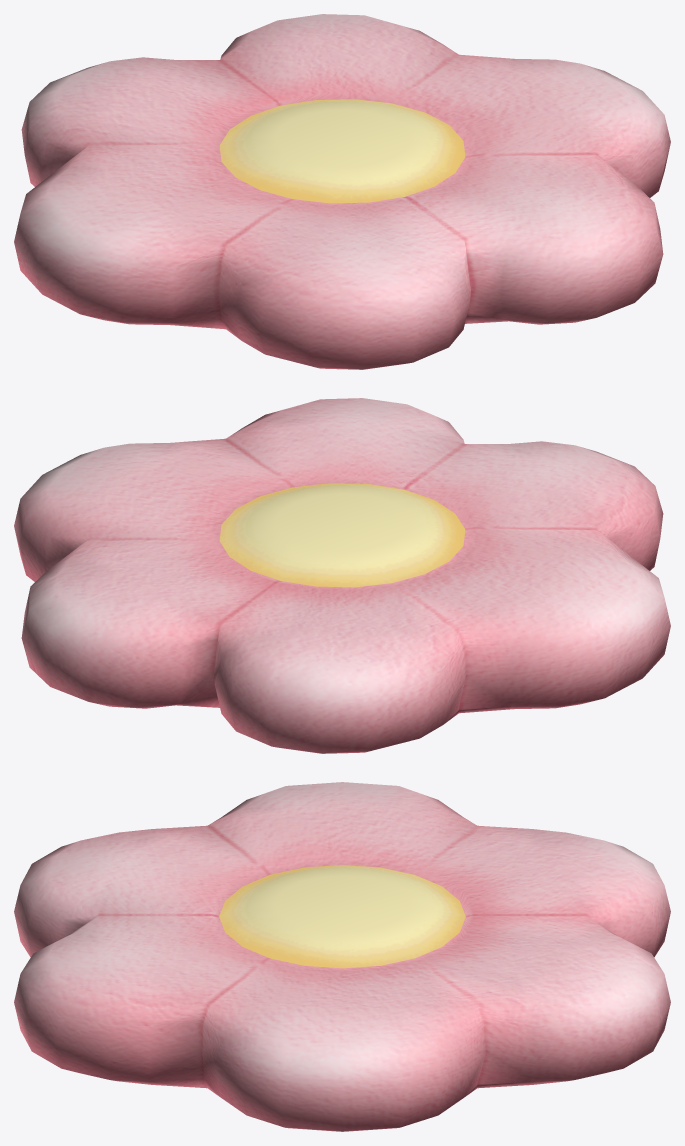
Rendered from Doll_OB_Cushion_003.FBX.
The picture shows the model from 3 angles, top to bottom: view 1: azimuth 30°, elevation 25°; view 2: azimuth 150°, elevation 25°; view 3: azimuth 270°, elevation 25°; orthographic projection.
Parts seen in each view (by area): view 1: Doll_OB_Cushion_003; view 2: Doll_OB_Cushion_003; view 3: Doll_OB_Cushion_003.
Boxes of the visible parts, x1,y1,x2,y2 form: Doll_OB_Cushion_003: [14, 14, 670, 369]; Doll_OB_Cushion_003: [14, 398, 670, 753]; Doll_OB_Cushion_003: [14, 782, 670, 1131].
Size of the model in its own units: 33.46 by 5.35 by 31.39.
